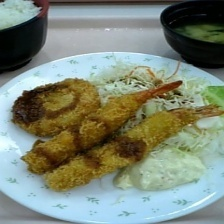rice: (0, 0, 45, 31)
